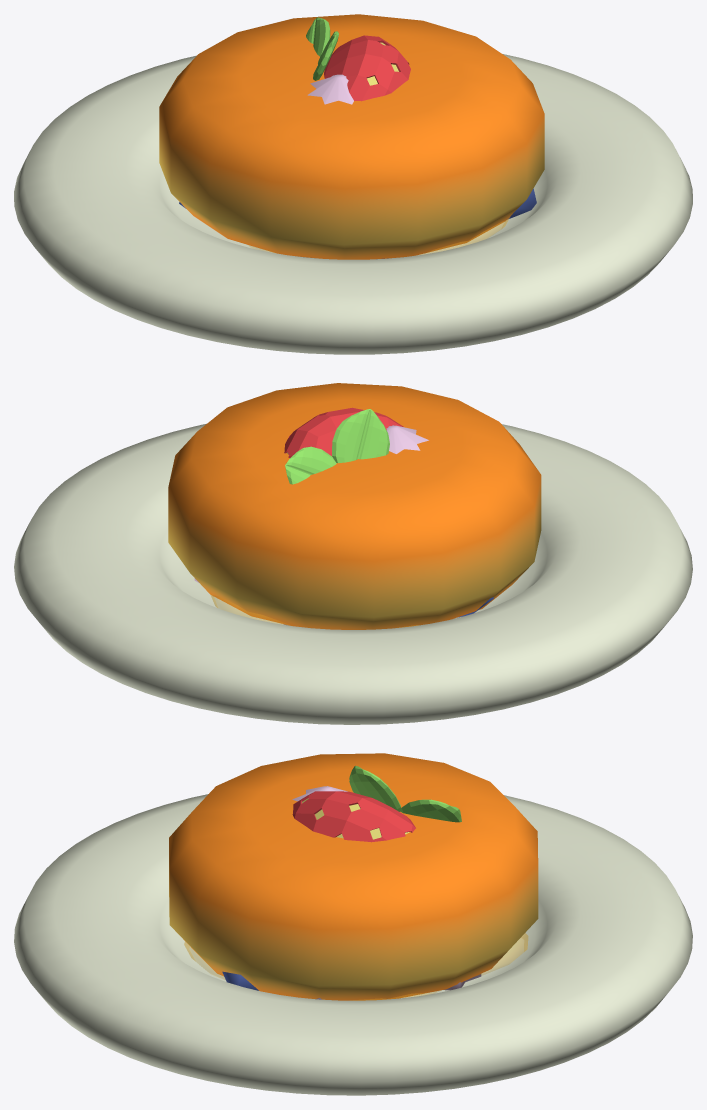
File: pancake_assetss.glb
The picture shows the model from 3 angles, top to bottom: view 1: azimuth 30°, elevation 25°; view 2: azimuth 150°, elevation 25°; view 3: azimuth 270°, elevation 25°; orthographic projection.
Visible parts, largest first — view 1: Plate, Pancake Bottom, Strawberry, Cream; view 2: Plate, Pancake Bottom, Strawberry, Cream, Syrup; view 3: Plate, Pancake Bottom, Strawberry, Syrup.
Part boxes in pixels (x1,y1,x2,y2): Plate: [14, 54, 692, 354]; Pancake Bottom: [159, 14, 544, 259]; Strawberry: [306, 17, 410, 101]; Cream: [298, 74, 388, 259]; Plate: [14, 423, 692, 724]; Pancake Bottom: [168, 383, 541, 629]; Strawberry: [284, 407, 403, 484]; Cream: [194, 425, 428, 625]; Syrup: [211, 595, 417, 626]; Plate: [14, 794, 692, 1095]; Pancake Bottom: [169, 753, 538, 1000]; Strawberry: [292, 765, 461, 842]; Syrup: [184, 933, 528, 1000].
Size of the model in its own units: 4.18 by 1.32 by 4.18.
